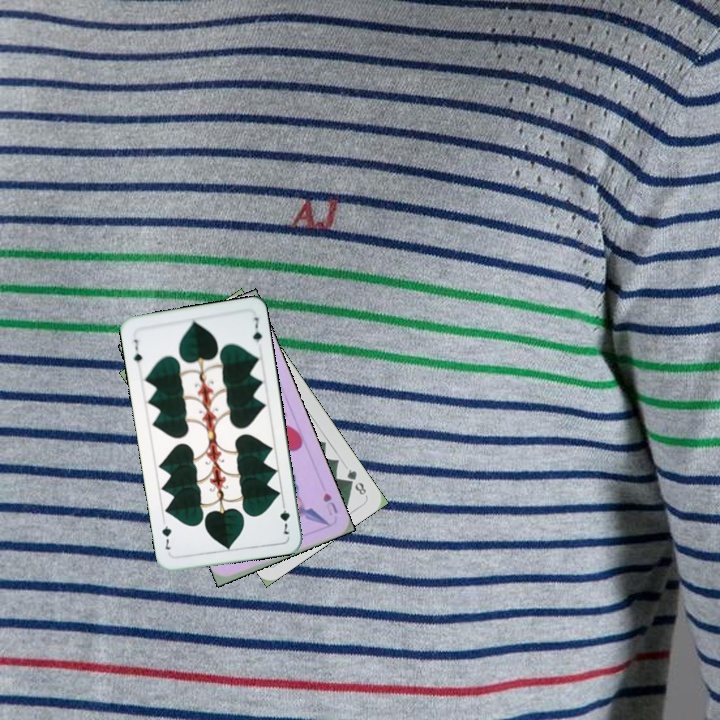G7: (276, 497, 293, 537), (130, 335, 145, 365)
G8: (343, 465, 369, 499)
HU: (319, 489, 340, 518)
